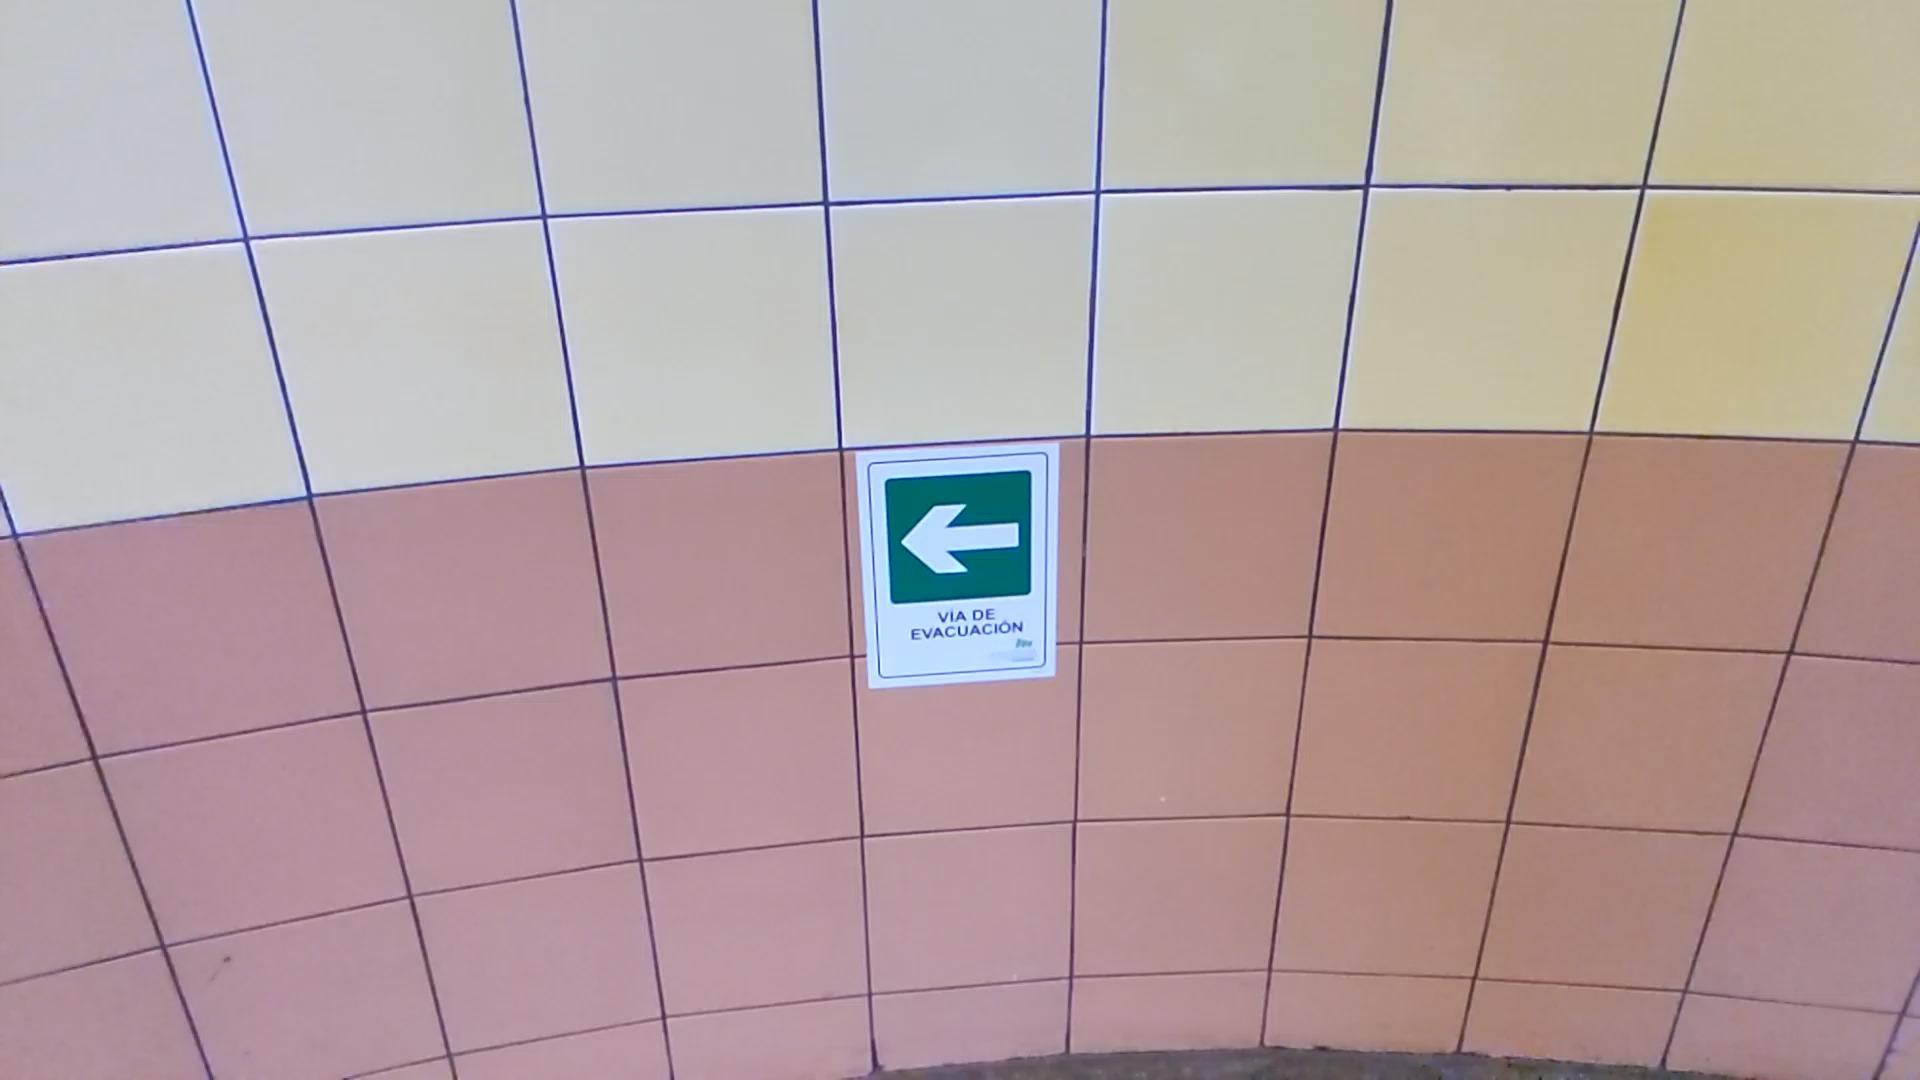emergency left arrow: (899, 497, 1022, 579)
